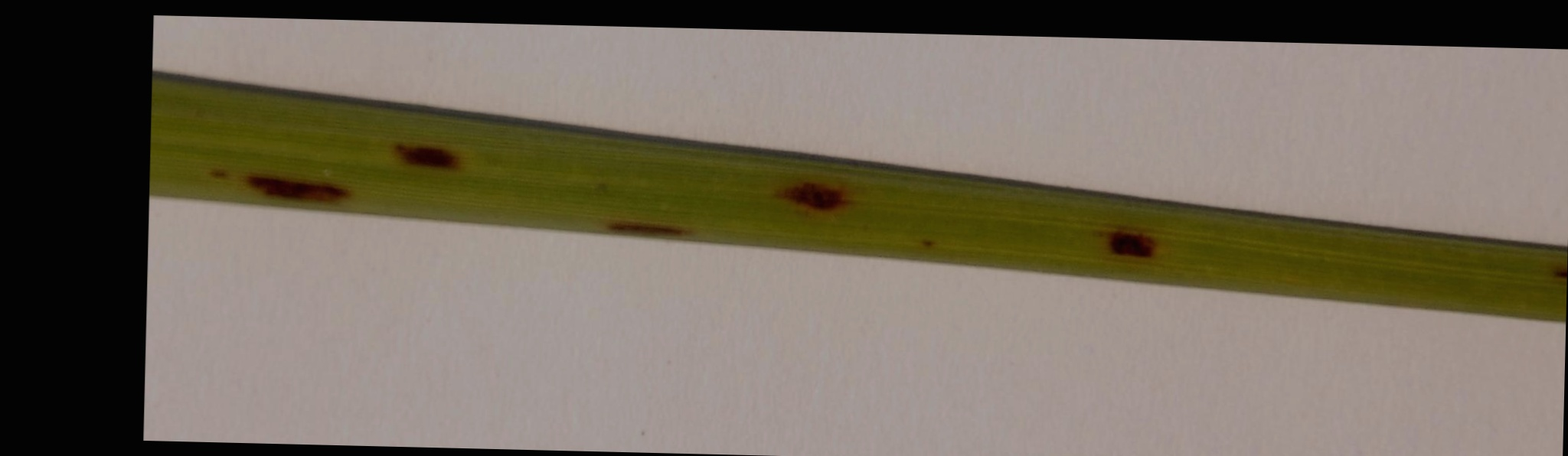Bacterial_Leaf_Blight: (212, 169, 352, 209), (769, 156, 850, 216), (1090, 216, 1164, 280), (585, 201, 682, 246), (365, 134, 472, 173), (1544, 242, 1568, 287)
